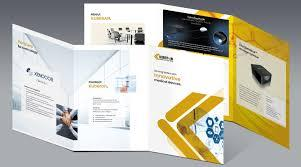paper: (12, 4, 290, 164)
